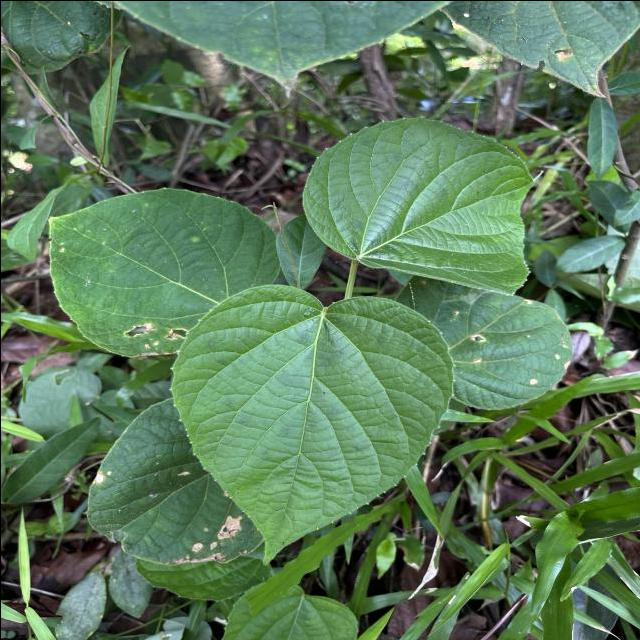Clerodendrum infortunatum: (166, 281, 456, 567), (300, 113, 544, 296), (46, 185, 282, 360)
